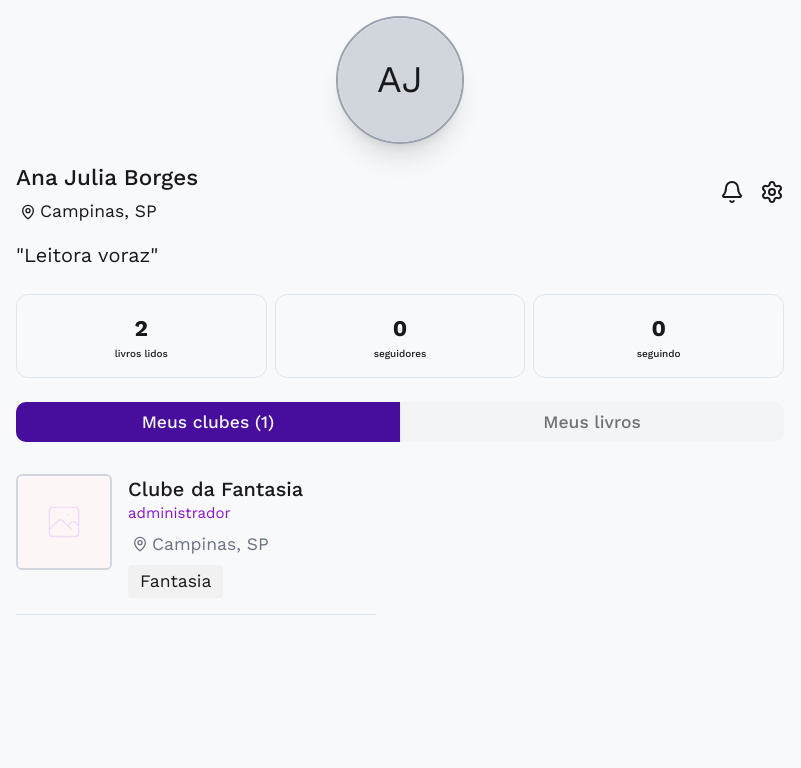
it: Profile › mostra os livros lidos ao abrir a aba Meus livros
This screenshot has width=801, height=768.
Click the tab "Meus livros". click: coordinates (592, 422)
box: [400,402,784,442]
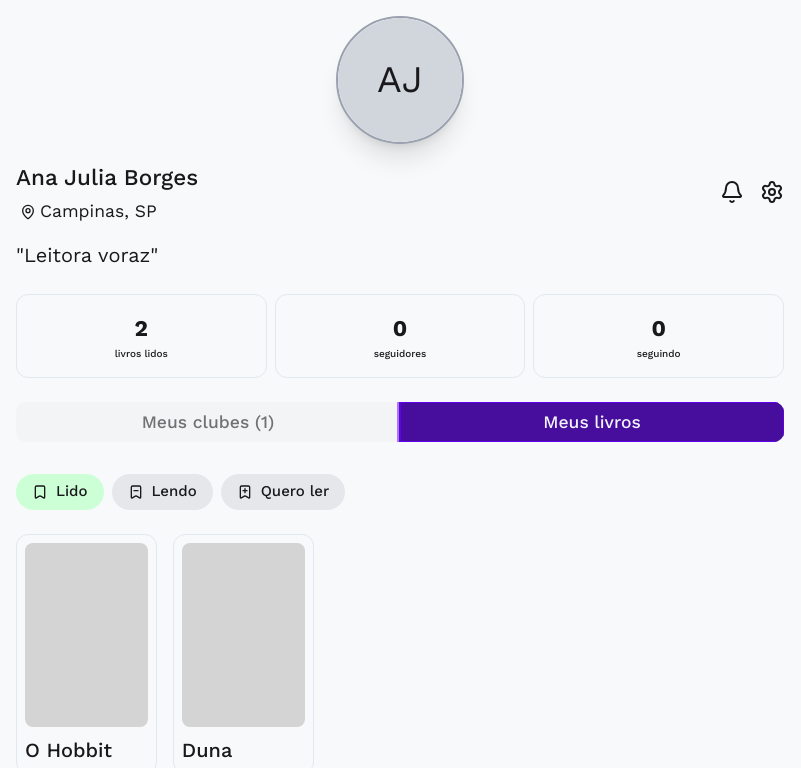
Expected: the text "O Hobbit" is shown, [25,738,112,762]
Expected: the text "Duna" is shown, [182,738,232,762]
